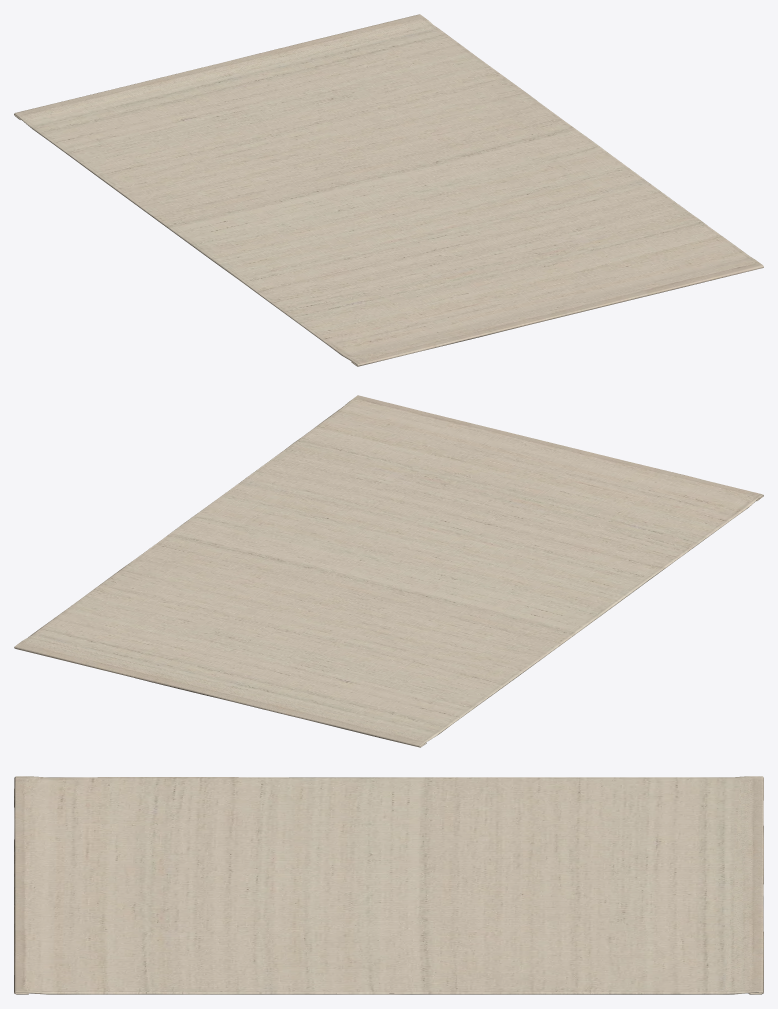
The picture shows the model from 3 angles, top to bottom: view 1: azimuth 30°, elevation 25°; view 2: azimuth 150°, elevation 25°; view 3: azimuth 270°, elevation 25°; orthographic projection. The views are drawn at different scales.
Visible parts, largest first — view 1: PRT_5fluq8g0_P01_S01_NV01; view 2: PRT_5fluq8g0_P01_S01_NV01; view 3: PRT_5fluq8g0_P01_S01_NV01.
Boxes of the visible parts, x1,y1,x2,y2 form: PRT_5fluq8g0_P01_S01_NV01: [14, 14, 763, 366]; PRT_5fluq8g0_P01_S01_NV01: [14, 395, 763, 747]; PRT_5fluq8g0_P01_S01_NV01: [14, 776, 763, 994].
Size of the model in its own units: 1.33 by 0.00952 by 1.95.
1 material, 1 textured.
